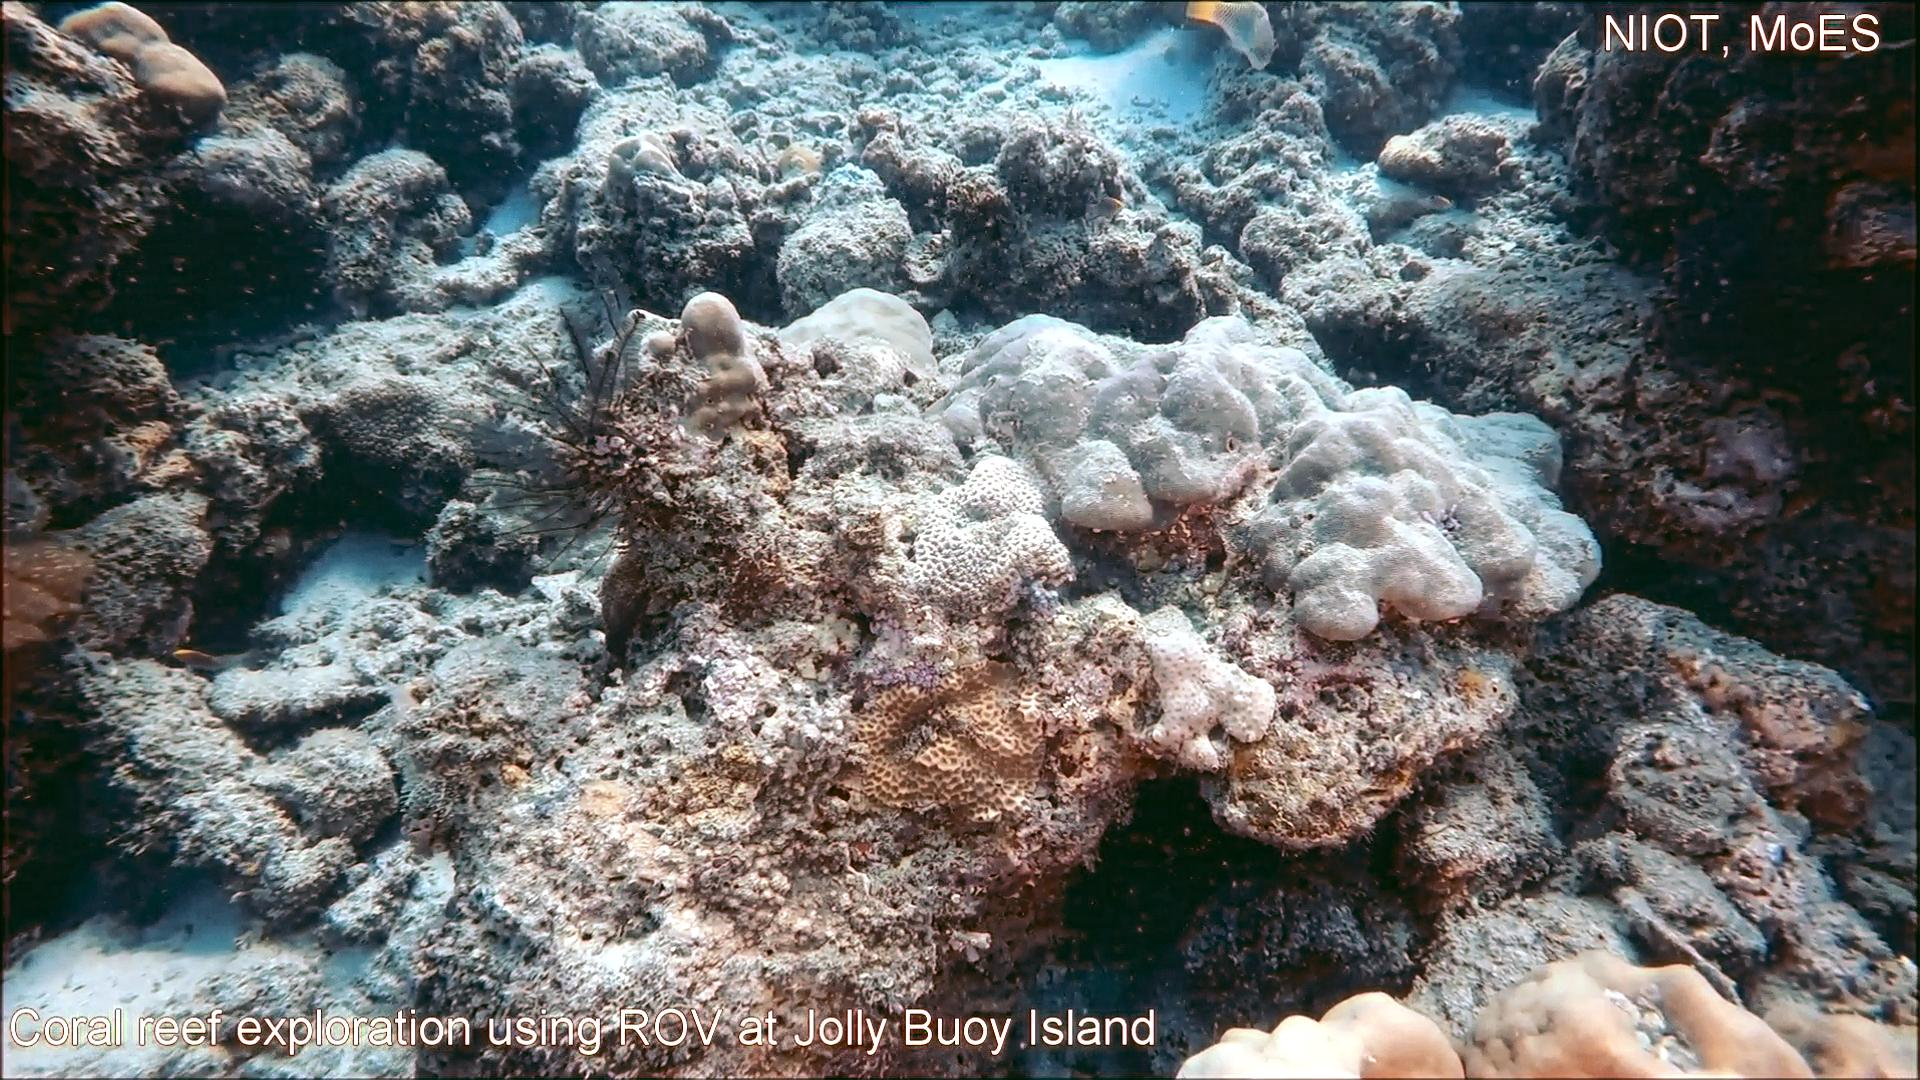Feather star-Crinoid star: (421, 273, 654, 575)
Goniastrea-Goniastrea pectinata: (913, 448, 1080, 625)
Porites-Porites pukoensis: (1156, 313, 1607, 651)
Turbinaria-Turbinaria stellulata: (320, 368, 475, 476)
